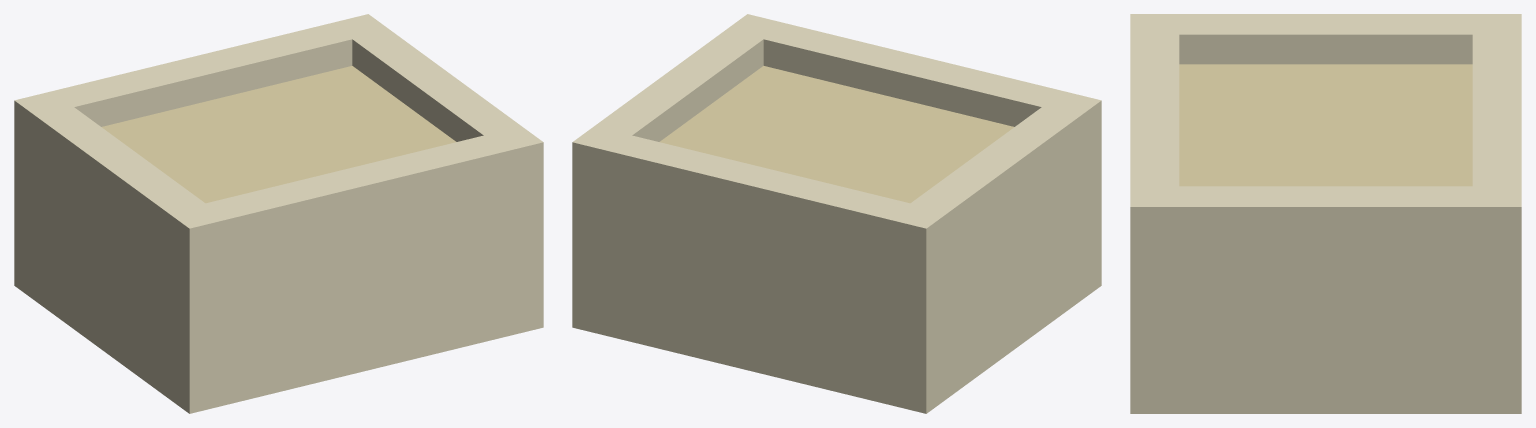
Rendered from ingredients.vox-4-tofu.obj.
The picture shows the model from 3 angles, left to right: view 1: azimuth 30°, elevation 25°; view 2: azimuth 150°, elevation 25°; view 3: azimuth 270°, elevation 25°; orthographic projection. The views are drawn at different scales.
Parts seen in each view (by area): view 1: tofu; view 2: tofu; view 3: tofu.
Boxes of the visible parts, x1=… form: tofu: x1=14, y1=14, x2=543, y2=413; tofu: x1=572, y1=14, x2=1101, y2=413; tofu: x1=1130, y1=14, x2=1521, y2=413.
Size of the model in its own units: 2.8 by 1.4 by 2.4.
Materials: 1 (1 with a texture image).
